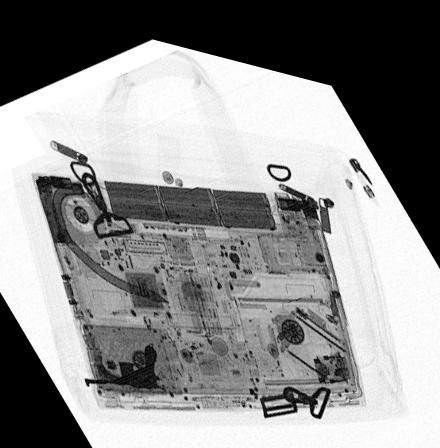Gun: (81, 337, 163, 383)
